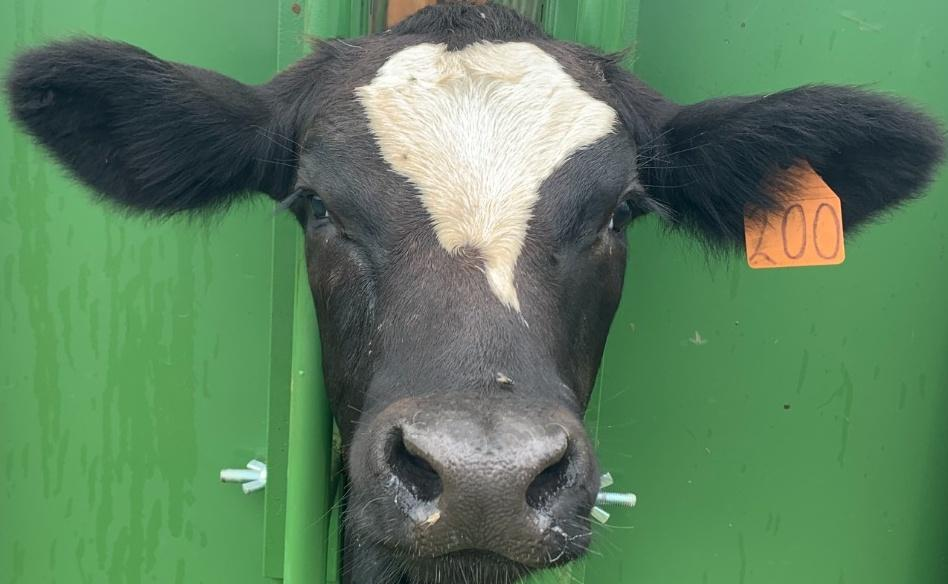muzzles: (341, 393, 608, 582)
